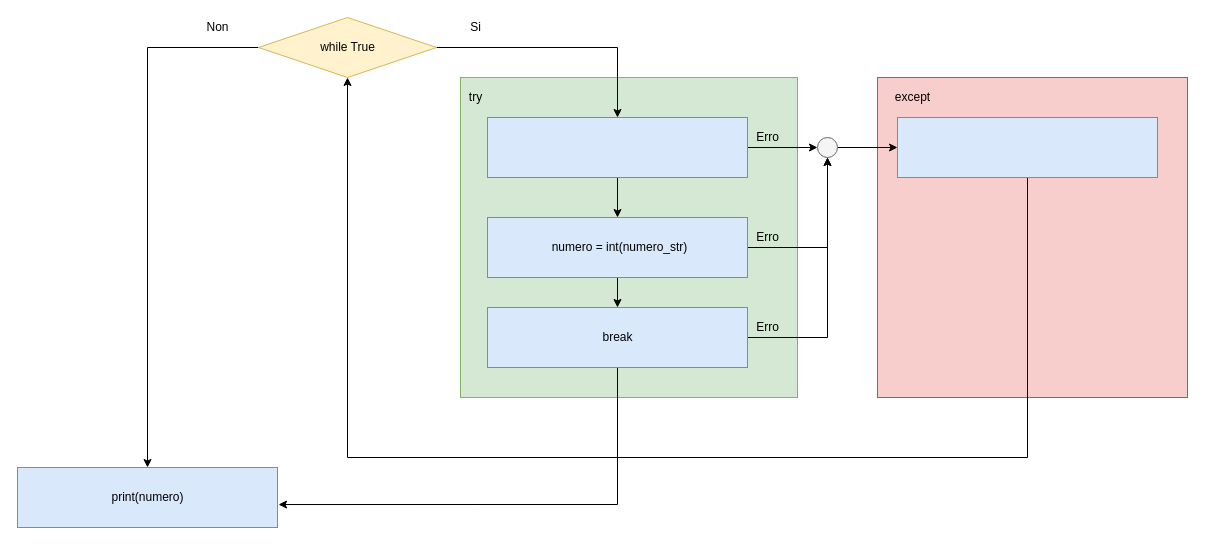
The diagram is 1205 pixels wide and 545 high, and some of its shapes have lost their labels. The shapes that lost their labels are listed below. From the top down, each one's box as (x1, y1, x2, y2) in pixels, then its label:
(486, 116, 748, 178): numero_str = input("Introduce un numero: ")
(896, 116, 1158, 178): print("Produciuse un erro")
